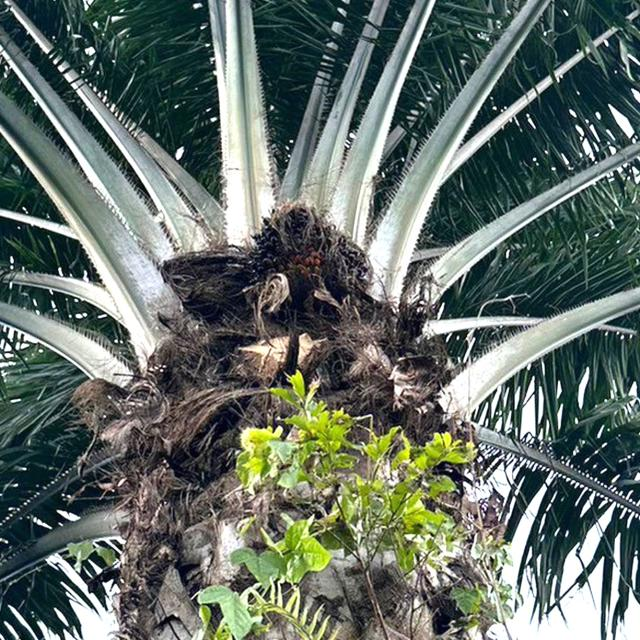almost: (246, 199, 373, 306)
